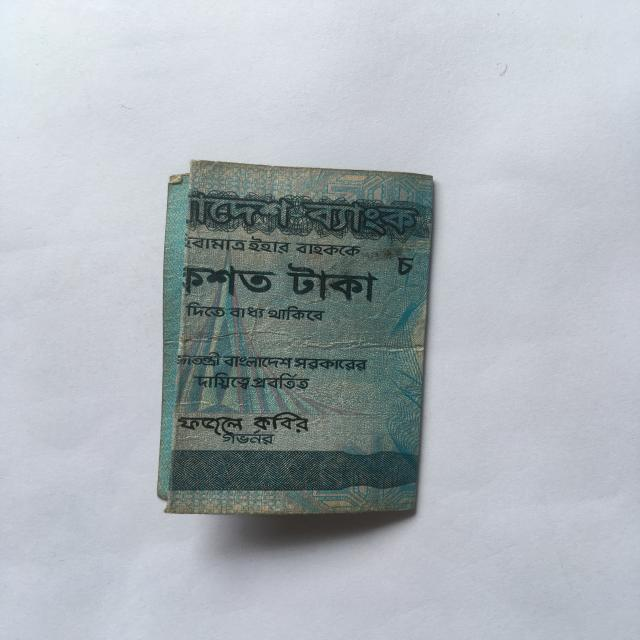Taka: (162, 155, 435, 532)
